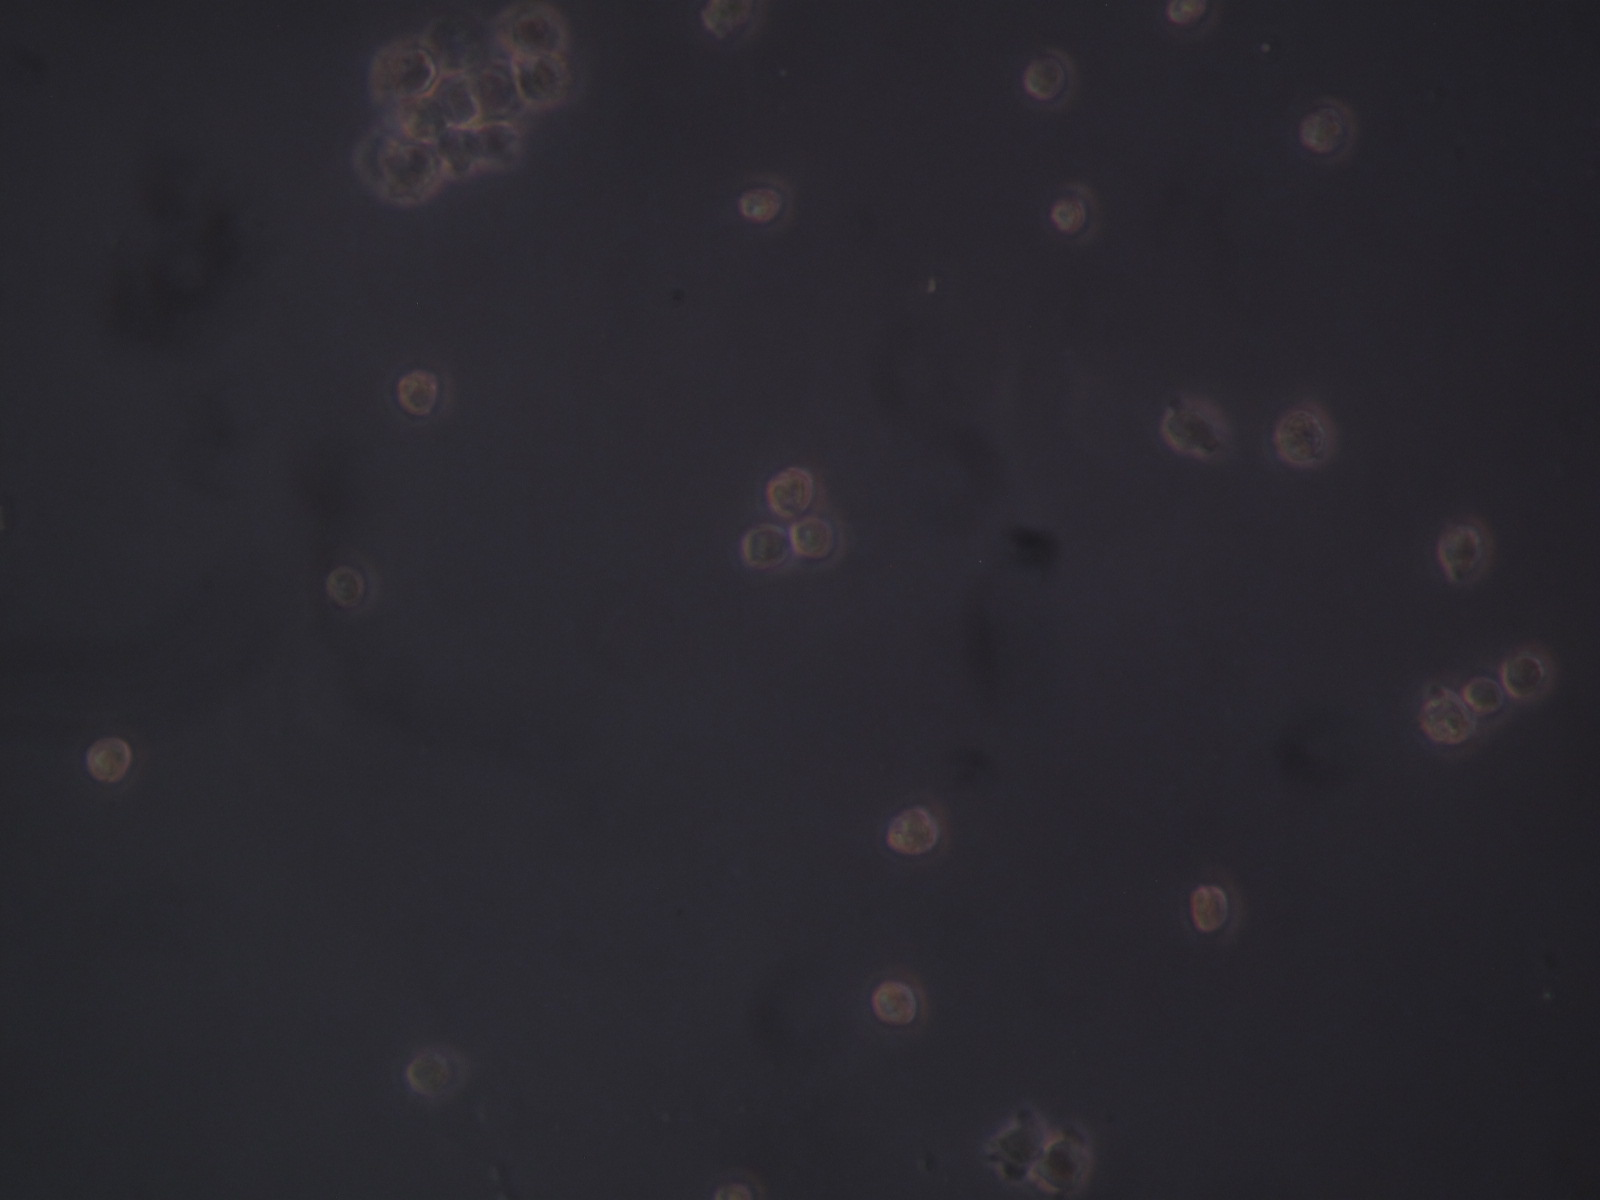hemo: (365, 42, 436, 100), (1296, 93, 1356, 161), (1431, 517, 1492, 582), (1162, 405, 1226, 463), (1269, 406, 1330, 465), (501, 3, 568, 57), (378, 142, 438, 202), (1419, 682, 1473, 745), (509, 49, 567, 107), (467, 64, 524, 122), (884, 803, 941, 860), (326, 553, 382, 610), (1051, 182, 1102, 239), (407, 1049, 466, 1099), (430, 73, 483, 129), (1026, 45, 1075, 103), (1036, 1136, 1086, 1191), (396, 369, 452, 418), (740, 179, 794, 228), (769, 465, 814, 521), (84, 734, 131, 785), (868, 979, 920, 1026), (1191, 886, 1241, 933), (995, 1118, 1046, 1162), (1500, 650, 1545, 700), (743, 524, 791, 568), (791, 516, 837, 558), (1465, 677, 1506, 713)
